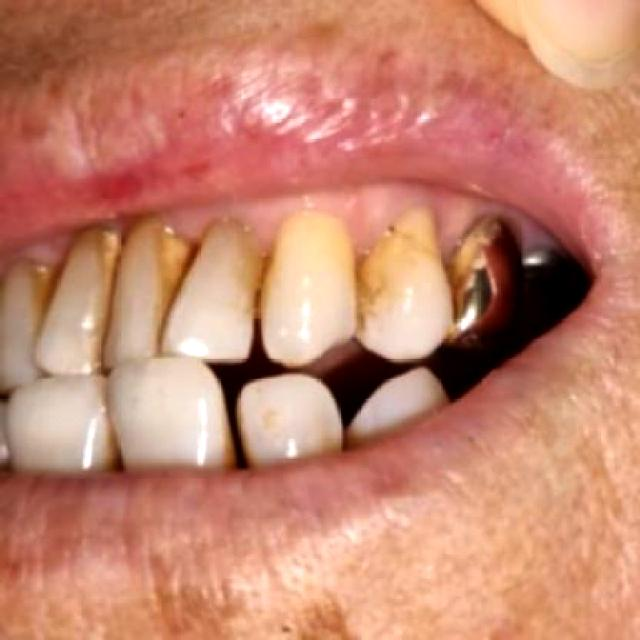Plaque: (344, 205, 400, 258), (433, 203, 481, 260), (236, 207, 288, 256), (164, 211, 219, 244), (15, 238, 70, 264), (101, 218, 138, 238)
